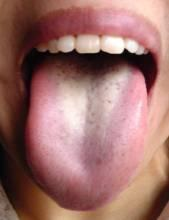hongshe: (26, 60, 148, 211)
huangtaishe: (26, 60, 148, 211)
